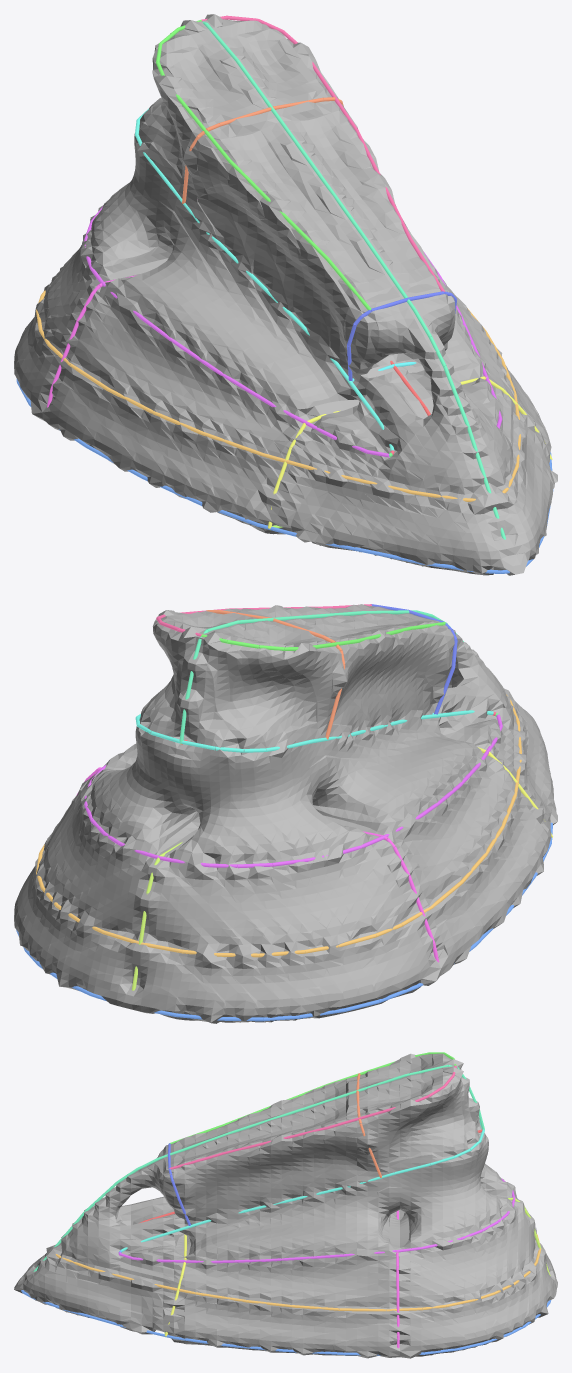
The model's file is t2f_iron.gltf.
3 views of the same model, one above another, from view 1: azimuth 30°, elevation 25°; view 2: azimuth 150°, elevation 25°; view 3: azimuth 270°, elevation 25° (orthographic). The views are drawn at different scales.
Size of the model in its own units: 0.486 by 0.42 by 0.8172.
